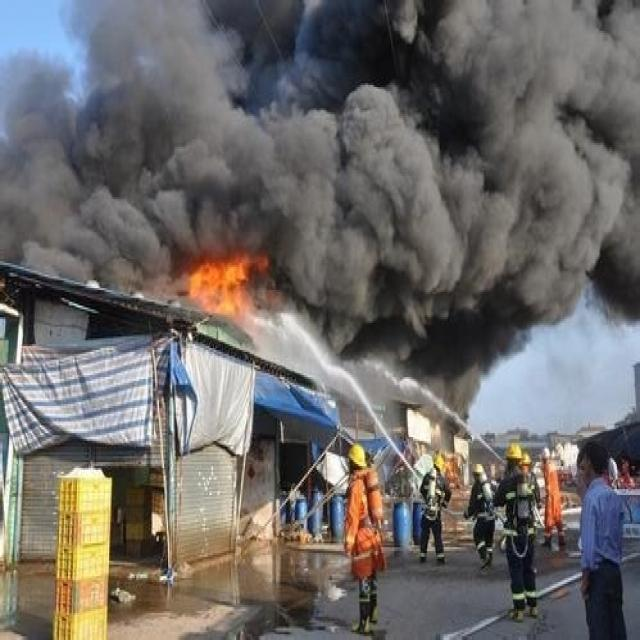Fire: (188, 255, 246, 317)
Smoke: (1, 1, 640, 422)
